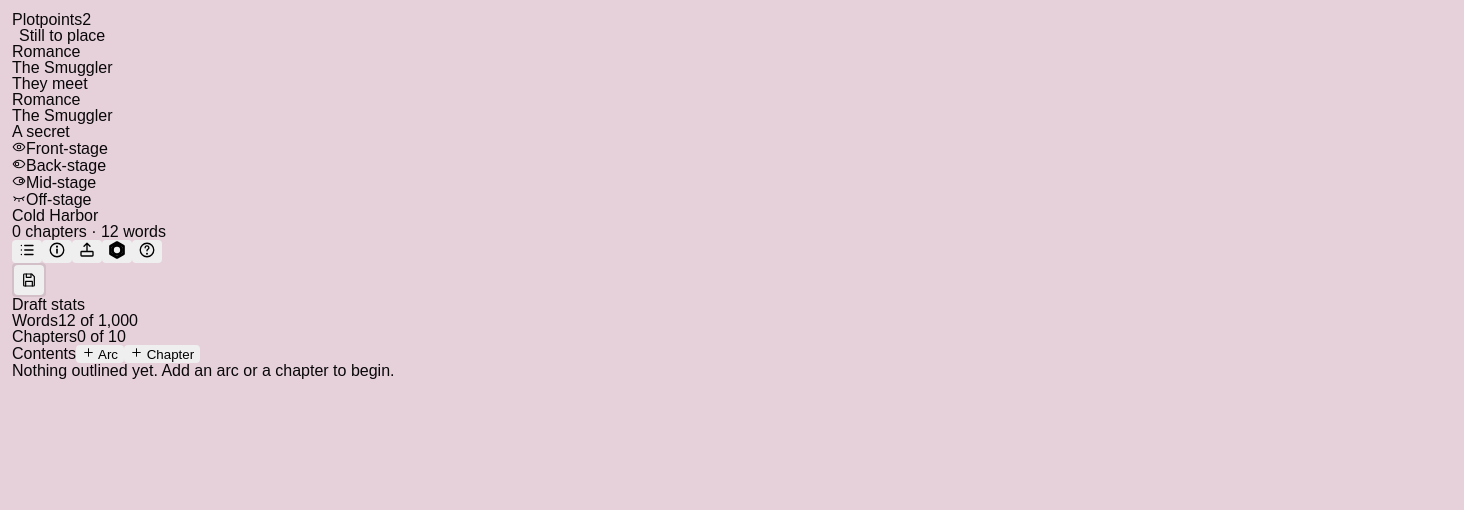
Scenario: Outline Max: the contents › still opens the first chapter added to a book with none (a book always has an open chapter)
The width and height of the screenshot is (1464, 510).
Click the button "Chapter" at coordinates (162, 354), box [124, 345, 200, 363]
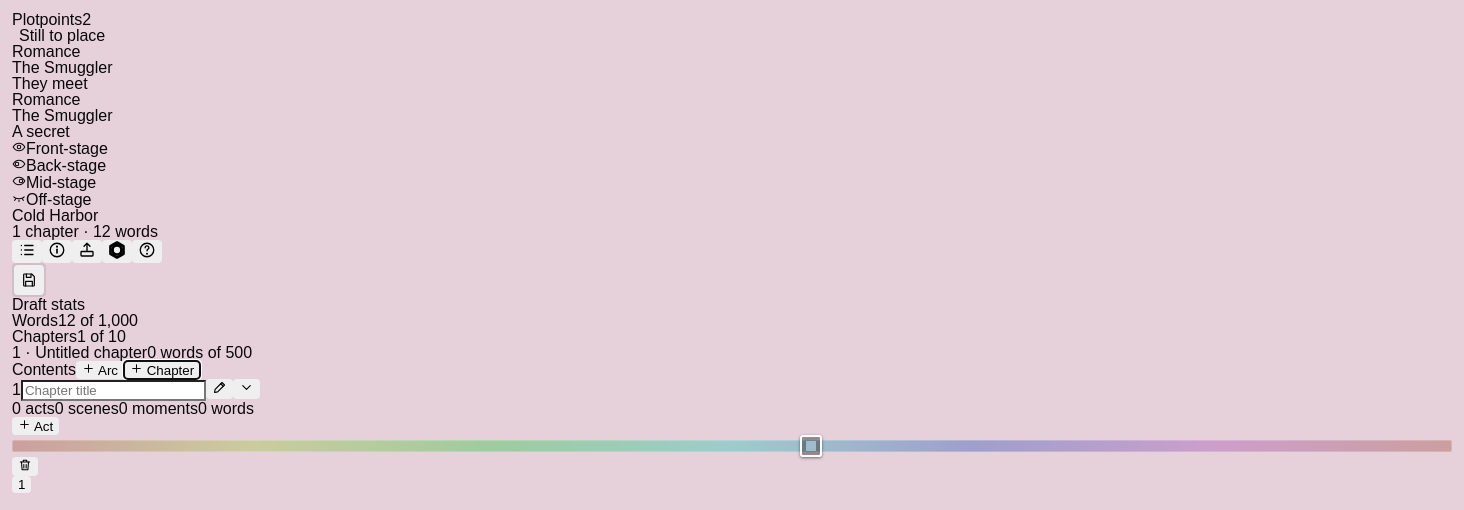
Expected: the number of buttons "1" is 1, [12, 476, 31, 493]
